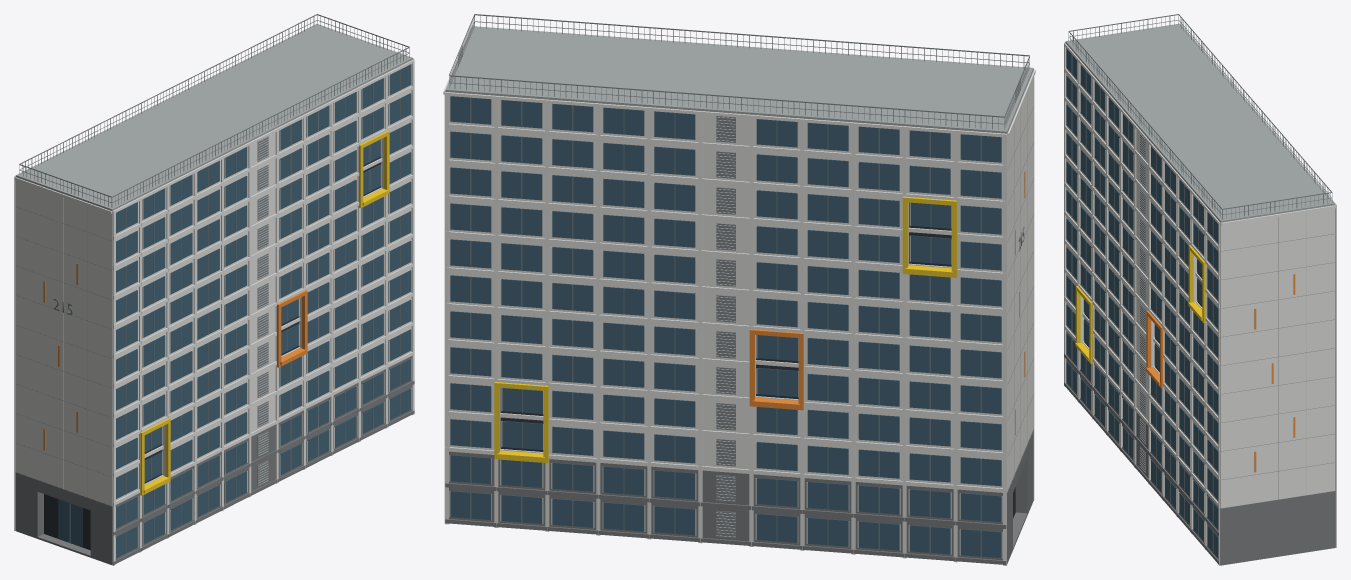
File: bespoke-songpa-helio-city-215.glb
The picture shows the model from 3 angles, left to right: view 1: azimuth 30°, elevation 25°; view 2: azimuth 150°, elevation 25°; view 3: azimuth 270°, elevation 25°; orthographic projection. The views are drawn at different scales.
Parts seen in each view (by area): view 1: Helio215_editable_Helio215_white_slab_frames, Helio215_editable_Helio215_dark_blue_grey_glazing, Helio215_editable_Helio215_low_roof_deck, Helio215_editable_Helio215_grey_service_grille, Helio215_editable_Helio215_dark_grey_twofloor_base, Helio215_editable_Helio215_yellow_projecting_rectangular_fra, Helio215_editable_Helio215_blankwall_grey_panels, Helio215_editable_Helio215_deep_shaded_frame_recess, Helio215_editable_Helio215_orange_narrow_accent; view 2: Helio215_editable_Helio215_dark_blue_grey_glazing, Helio215_editable_Helio215_white_slab_frames, Helio215_editable_Helio215_low_roof_deck, Helio215_editable_Helio215_grey_service_grille, Helio215_editable_Helio215_dark_grey_twofloor_base, Helio215_editable_Helio215_blankwall_grey_panels, Helio215_editable_Helio215_yellow_projecting_rectangular_fra, Helio215_editable_Helio215_orange_narrow_accent, Helio215_editable_Helio215_deep_shaded_frame_recess; view 3: Helio215_editable_Helio215_white_slab_frames, Helio215_editable_Helio215_dark_blue_grey_glazing, Helio215_editable_Helio215_low_roof_deck, Helio215_editable_Helio215_grey_service_grille, Helio215_editable_Helio215_dark_grey_twofloor_base, Helio215_editable_Helio215_yellow_projecting_rectangular_fra, Helio215_editable_Helio215_blankwall_grey_panels, Helio215_editable_Helio215_orange_narrow_accent.
Part boxes in pixels (x1=…): Helio215_editable_Helio215_white_slab_frames: x1=14, y1=58, x2=414, y2=565; Helio215_editable_Helio215_dark_blue_grey_glazing: x1=58, y1=64, x2=410, y2=558; Helio215_editable_Helio215_low_roof_deck: x1=15, y1=24, x2=413, y2=210; Helio215_editable_Helio215_grey_service_grille: x1=16, y1=14, x2=409, y2=553; Helio215_editable_Helio215_dark_grey_twofloor_base: x1=15, y1=356, x2=414, y2=565; Helio215_editable_Helio215_yellow_projecting_rectangular_fra: x1=140, y1=130, x2=389, y2=495; Helio215_editable_Helio215_blankwall_grey_panels: x1=63, y1=136, x2=268, y2=497; Helio215_editable_Helio215_deep_shaded_frame_recess: x1=44, y1=156, x2=380, y2=550; Helio215_editable_Helio215_orange_narrow_accent: x1=43, y1=263, x2=307, y2=450; Helio215_editable_Helio215_dark_blue_grey_glazing: x1=450, y1=96, x2=1001, y2=558; Helio215_editable_Helio215_white_slab_frames: x1=443, y1=28, x2=1035, y2=565; Helio215_editable_Helio215_low_roof_deck: x1=445, y1=26, x2=1033, y2=133; Helio215_editable_Helio215_grey_service_grille: x1=449, y1=14, x2=1033, y2=556; Helio215_editable_Helio215_dark_grey_twofloor_base: x1=445, y1=429, x2=1033, y2=564; Helio215_editable_Helio215_blankwall_grey_panels: x1=716, y1=93, x2=1027, y2=537; Helio215_editable_Helio215_yellow_projecting_rectangular_fra: x1=494, y1=196, x2=956, y2=463; Helio215_editable_Helio215_orange_narrow_accent: x1=749, y1=171, x2=1025, y2=435; Helio215_editable_Helio215_deep_shaded_frame_recess: x1=500, y1=202, x2=1015, y2=518; Helio215_editable_Helio215_white_slab_frames: x1=1064, y1=26, x2=1336, y2=565; Helio215_editable_Helio215_dark_blue_grey_glazing: x1=1066, y1=48, x2=1218, y2=557; Helio215_editable_Helio215_low_roof_deck: x1=1065, y1=23, x2=1335, y2=222; Helio215_editable_Helio215_grey_service_grille: x1=1068, y1=14, x2=1334, y2=551; Helio215_editable_Helio215_dark_grey_twofloor_base: x1=1064, y1=331, x2=1335, y2=565; Helio215_editable_Helio215_yellow_projecting_rectangular_fra: x1=1075, y1=245, x2=1206, y2=363; Helio215_editable_Helio215_blankwall_grey_panels: x1=1139, y1=134, x2=1306, y2=499; Helio215_editable_Helio215_orange_narrow_accent: x1=1146, y1=274, x2=1295, y2=472.
Size of the model in its own units: 41.55 by 34.6 by 24.08.
